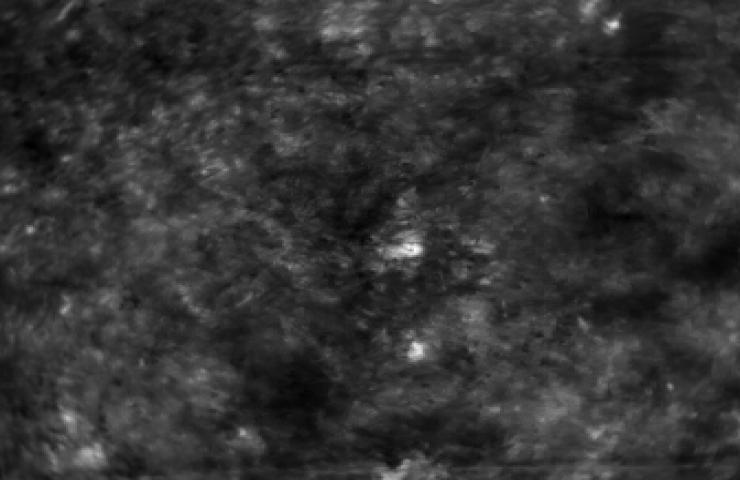landmines: (397, 238, 428, 266)
